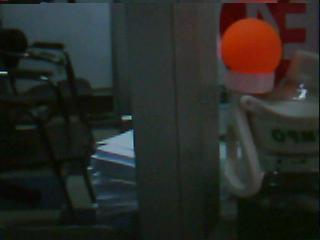oball: (219, 18, 282, 71)
